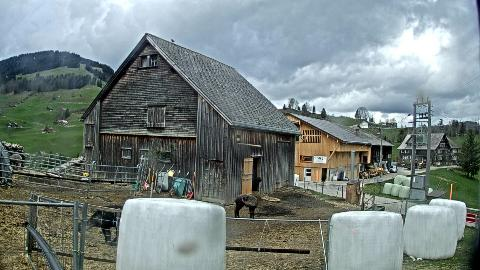car: (389, 166, 397, 172)
sheep: (70, 205, 126, 245), (234, 194, 260, 218), (6, 154, 22, 170), (252, 176, 262, 192)
